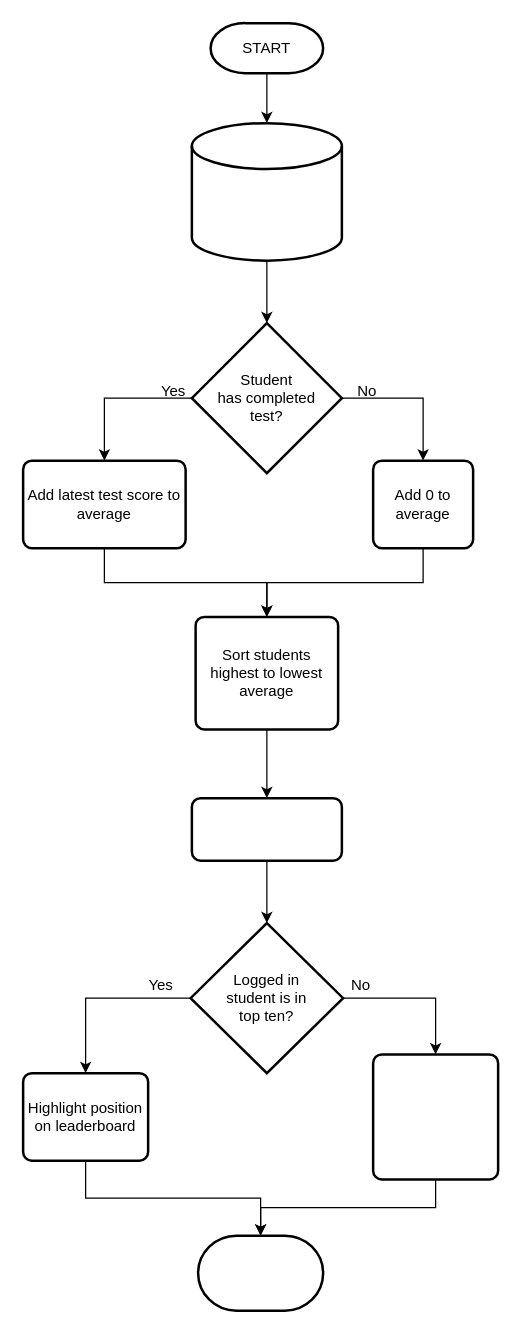
The diagram is 520 pixels wide and 1333 high, and some of its shapes have lost their labels. The box of each missing label's shape, as (x1, y1, x2, y2) in pixels:
Display extra text with student's position: (371, 1052, 499, 1180)
Display top ten: (190, 796, 342, 861)
END: (196, 1234, 324, 1311)
Get all students and students' test results from database: (190, 121, 342, 261)
